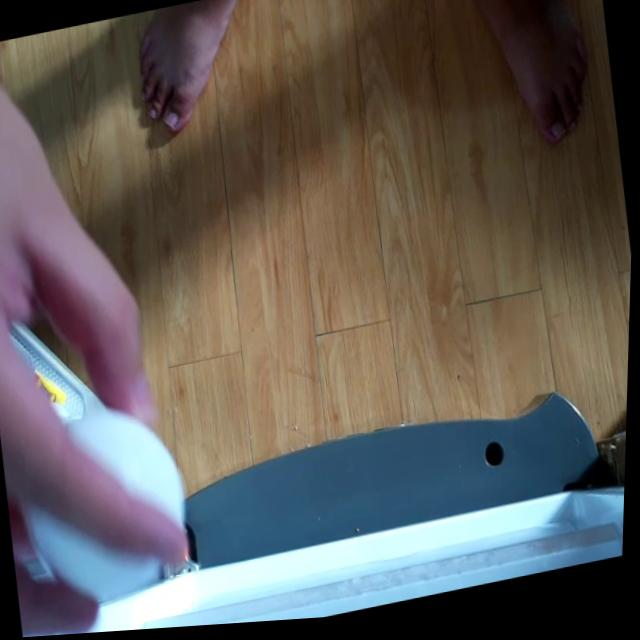egg: (19, 398, 200, 611)
